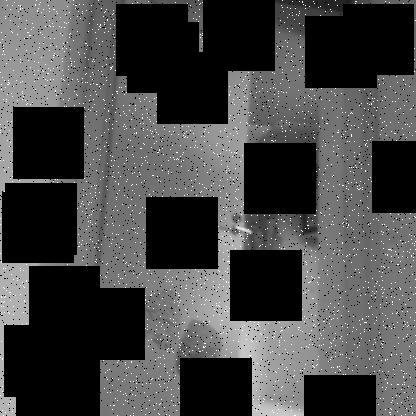Porte: (42, 1, 387, 415)
